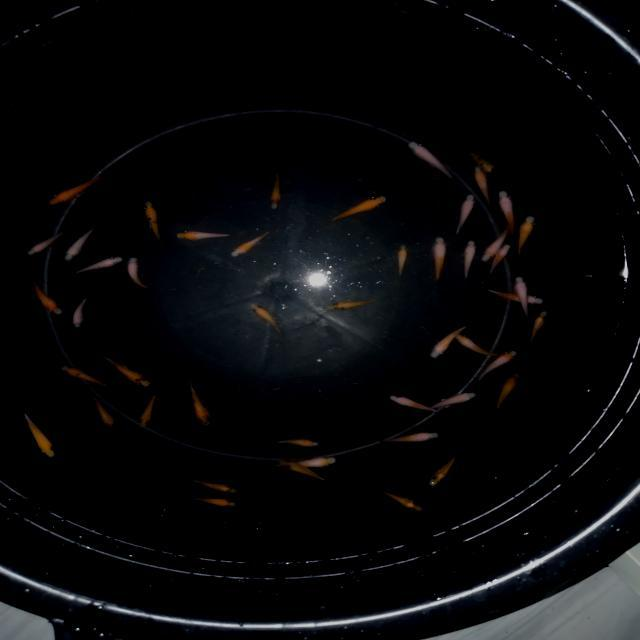nila: (45, 167, 118, 210), (458, 135, 511, 188), (326, 191, 392, 231), (94, 348, 152, 388), (59, 222, 110, 266), (20, 404, 58, 462), (408, 137, 454, 183), (384, 391, 452, 422), (422, 322, 470, 365), (525, 306, 567, 354), (488, 370, 528, 420), (446, 326, 504, 360), (364, 486, 427, 516), (57, 359, 113, 392), (245, 300, 289, 342), (87, 386, 122, 436), (476, 283, 548, 307), (270, 449, 345, 472), (65, 252, 128, 279), (276, 456, 332, 486), (472, 346, 516, 384), (178, 471, 244, 496), (425, 447, 465, 488), (478, 218, 512, 266), (450, 188, 480, 242), (510, 271, 536, 332), (416, 390, 482, 414), (512, 211, 544, 260), (370, 429, 448, 449), (229, 228, 277, 260), (30, 272, 63, 318), (24, 225, 68, 259), (320, 292, 386, 313), (179, 491, 245, 512), (186, 377, 212, 429), (497, 186, 520, 242), (468, 160, 493, 210), (142, 196, 166, 248), (430, 232, 450, 294), (137, 386, 162, 434), (126, 251, 154, 293), (172, 226, 240, 243), (488, 237, 514, 281), (266, 170, 289, 212), (70, 291, 94, 330), (267, 434, 323, 449), (462, 239, 479, 286), (398, 237, 408, 279)
